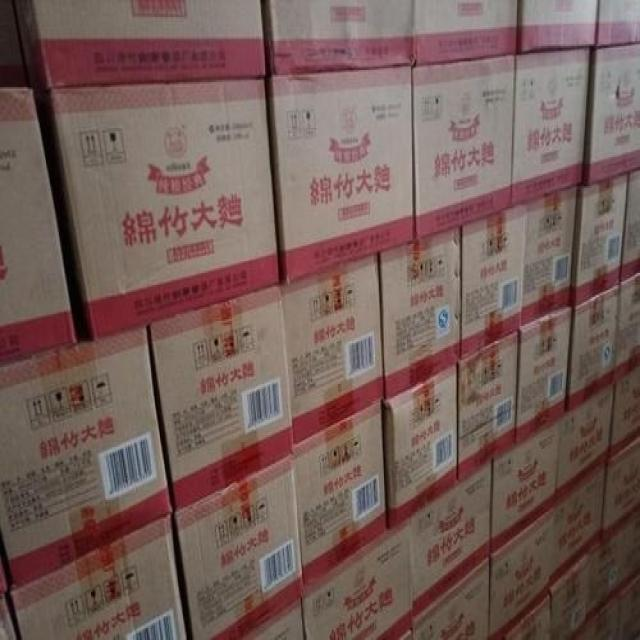box: (47, 75, 279, 338), (0, 325, 172, 588), (266, 65, 417, 285), (145, 288, 291, 510), (175, 450, 305, 638), (10, 515, 188, 638), (0, 87, 74, 365), (30, 1, 266, 87), (283, 256, 385, 445), (413, 59, 515, 241), (296, 403, 387, 592), (378, 226, 462, 400), (408, 462, 493, 621), (300, 520, 414, 638), (513, 49, 591, 203), (385, 368, 457, 531), (262, 0, 415, 72), (462, 202, 524, 362), (491, 417, 559, 559), (457, 332, 520, 482), (581, 43, 639, 187), (521, 185, 578, 330), (514, 304, 572, 444), (491, 511, 554, 638), (572, 171, 630, 305), (412, 1, 519, 67), (403, 560, 492, 638), (557, 389, 614, 509), (551, 470, 604, 592), (567, 287, 618, 411), (550, 550, 605, 638), (519, 1, 599, 53), (600, 443, 638, 551), (600, 529, 639, 611), (613, 272, 639, 387), (611, 364, 639, 463), (0, 1, 31, 89), (495, 591, 553, 638), (557, 598, 618, 638), (245, 602, 305, 638), (620, 169, 638, 284), (596, 1, 639, 46), (0, 550, 18, 638), (617, 572, 638, 638)
